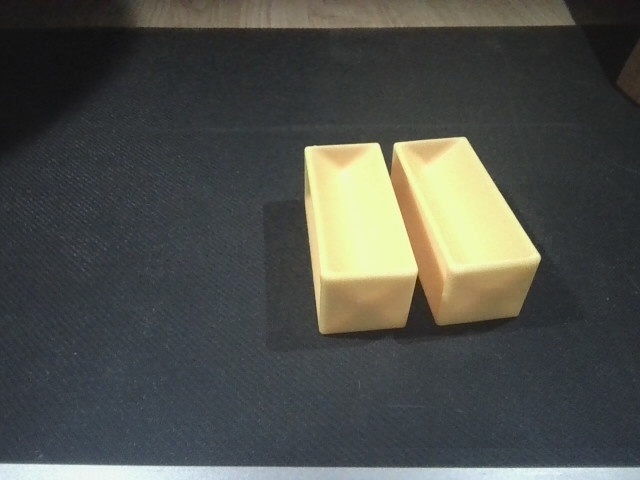YellowSample: (389, 135, 543, 328), (298, 138, 419, 336)
